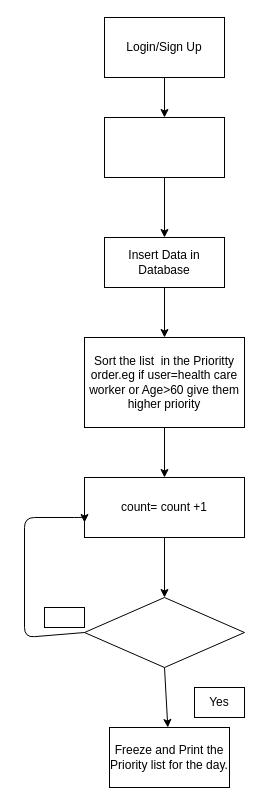
This 262x805 diagram has some shape labels left out. Here are the shapes that lost their labels. From the top down, the centre of each, then its label:
pixel 164 147: User Input(Attributes)
pixel 64 617: No
pixel 164 632: count=limit in 24 hrs?
